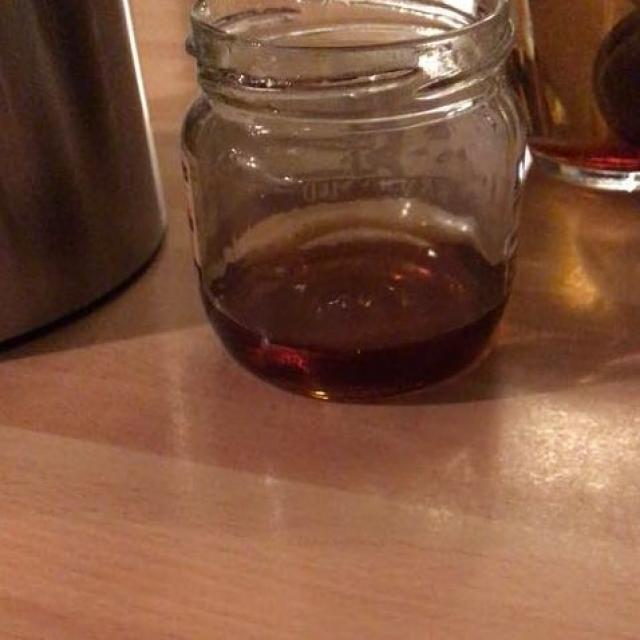honey: (199, 237, 487, 389)
